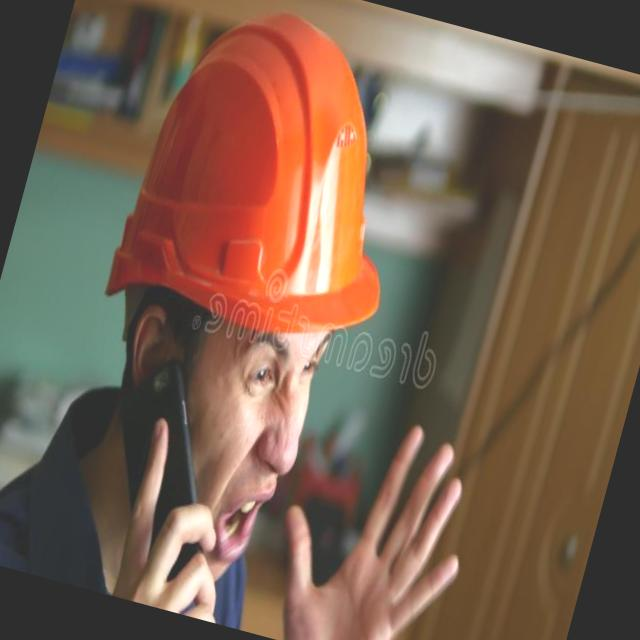helmet: (91, 0, 448, 364)
